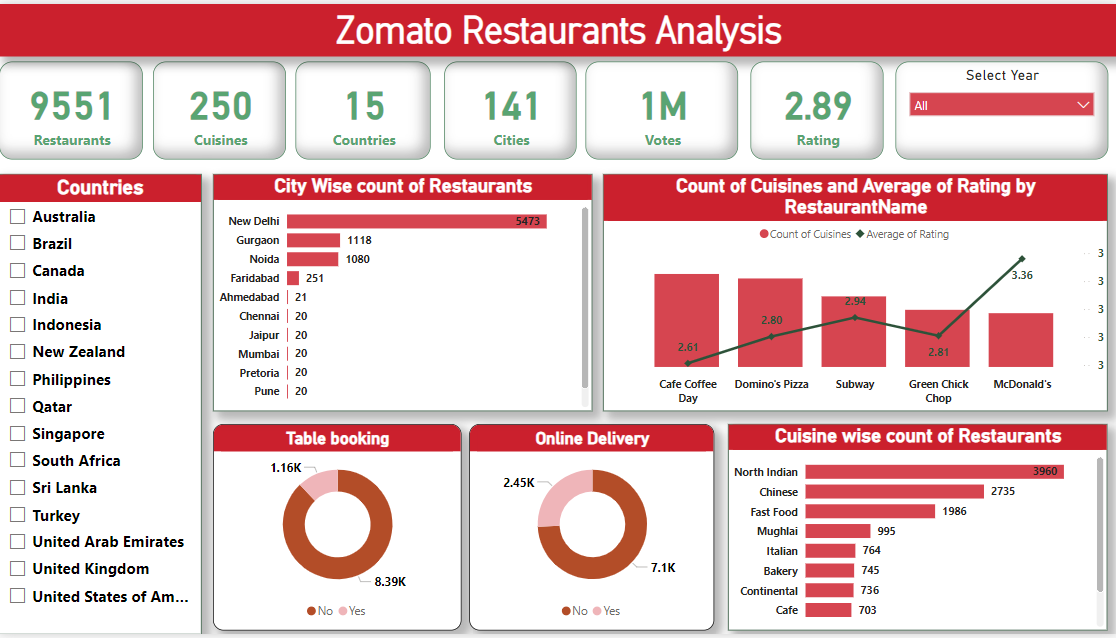

What the dashboard file says about the page in this screenshot:
{"tool":"powerbi","page":{"name":"Dashboard","canvas":[1280,720],"ordinal":0},"visuals":[{"type":"slicer","title":"Countries","fields":{"Values":["Sheet2.country name"]},"box":[0,194.2,232.6,526.7],"z":0},{"type":"card","fields":{"Values":["CountNonNull(Sheet2.countryID)"]},"box":[340.7,66.3,154.7,111.6],"z":2000},{"type":"card","fields":{"Values":["Count(Sheet1.Cuisines)"]},"box":[176.7,66.3,152.3,111.6],"z":3000},{"type":"card","fields":{"Values":["Count(Sheet1.RestaurantID)"]},"box":[1.2,66.3,164,111.6],"z":4000},{"type":"card","fields":{"Values":["Count(Sheet1.City)"]},"box":[510.5,66.3,151.2,111.6],"z":5000},{"type":"textbox","box":[1.5,0,1279.2,60.3],"z":6000},{"type":"donutChart","title":"Table booking ","fields":{"Category":["cuisines copy.Has_Table_booking"],"Y":["CountNonNull(cuisines copy.Has_Table_booking)"]},"box":[245.3,480.2,283.7,236],"z":7000},{"type":"donutChart","title":"Online Delivery","fields":{"Category":["cuisines copy.Has_Online_delivery"],"Y":["CountNonNull(cuisines copy.Has_Online_delivery)"]},"box":[538.4,480.2,280.2,236],"z":8000},{"type":"clusteredBarChart","title":"Cuisine wise count of Restaurants","fields":{"Category":["Sheet1.Column"],"Y":["CountNonNull(Sheet1.Cuisines)"]},"box":[834.9,480.2,433.7,236],"z":9000},{"type":"clusteredBarChart","title":"City Wise count of Restaurants","fields":{"Category":["cuisines copy.City"],"Y":["CountNonNull(cuisines copy.RestaurantID)"]},"box":[245.3,194.2,433.7,270.9],"z":10000},{"type":"lineStackedColumnComboChart","fields":{"Category":["cuisines copy.RestaurantName"],"Y":["CountNonNull(cuisines copy.Cuisines)"],"Y2":["Avg(cuisines copy.Rating)"]},"box":[691.9,194.2,576.7,270.9],"z":11000},{"type":"slicer","title":"Select Year","fields":{"Values":["cuisines copy.new datekey.Variation.Date Hierarchy.Year","cuisines copy.new datekey.Variation.Date Hierarchy.Quarter","cuisines copy.new datekey.Variation.Date Hierarchy.Month","cuisines copy.new datekey.Variation.Date Hierarchy.Day"]},"box":[1025.6,66.3,243,111.6],"z":13000},{"type":"card","fields":{"Values":["Sum(cuisines copy.Votes)"]},"box":[670.9,66.3,174.4,111.6],"z":14000},{"type":"card","fields":{"Values":["Avg(cuisines copy.Rating)"]},"box":[860.5,66.3,152.3,111.6],"z":15000}]}

Visuals, with their boxes in screenshot pixels (x1, y1, x2, y2), scaled from the page's 1280x720 canvas onto the 1116x638 screenshot:
"Countries" slicer: region(0, 172, 203, 637)
card - CountNonNull(Sheet2.countryID): region(297, 59, 432, 158)
card - Count(Sheet1.Cuisines): region(154, 59, 287, 158)
card - Count(Sheet1.RestaurantID): region(1, 59, 144, 158)
card - Count(Sheet1.City): region(445, 59, 577, 158)
textbox: region(1, 0, 1115, 53)
"Table booking " donutChart: region(214, 426, 461, 635)
"Online Delivery" donutChart: region(469, 426, 714, 635)
"Cuisine wise count of Restaurants" clusteredBarChart: region(728, 426, 1106, 635)
"City Wise count of Restaurants" clusteredBarChart: region(214, 172, 592, 412)
lineStackedColumnComboChart - cuisines copy.RestaurantName x CountNonNull(cuisines copy.Cuisines): region(603, 172, 1106, 412)
"Select Year" slicer: region(894, 59, 1106, 158)
card - Sum(cuisines copy.Votes): region(585, 59, 737, 158)
card - Avg(cuisines copy.Rating): region(750, 59, 883, 158)
